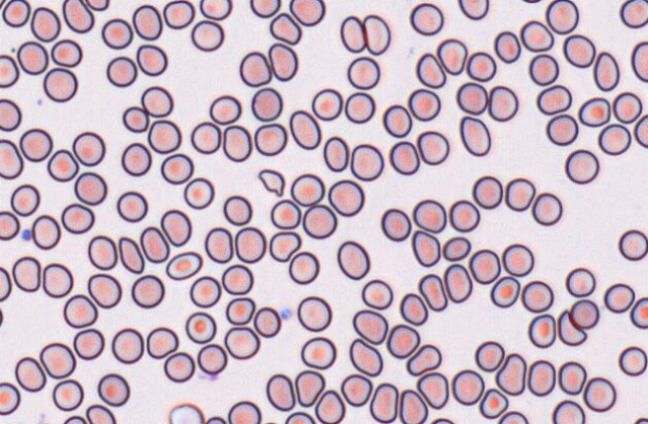PLT: (279, 306, 293, 320), (21, 229, 33, 242)
RBC: (327, 179, 364, 216), (39, 342, 76, 378), (349, 337, 383, 376), (336, 240, 370, 279), (459, 115, 491, 156), (495, 353, 526, 395), (289, 109, 321, 149), (352, 309, 388, 344), (297, 295, 331, 332), (416, 371, 449, 409), (350, 143, 383, 181), (302, 204, 337, 239), (564, 149, 599, 184), (450, 369, 484, 405), (267, 42, 298, 81), (43, 67, 77, 102), (386, 323, 420, 358), (63, 293, 97, 328), (87, 273, 121, 308), (369, 382, 398, 423), (405, 343, 441, 376), (583, 376, 616, 412), (300, 336, 336, 369), (224, 326, 260, 359), (234, 226, 266, 263), (294, 369, 325, 407), (147, 119, 181, 153), (545, 0, 579, 34), (412, 199, 446, 233), (519, 19, 554, 52), (72, 131, 105, 166), (111, 328, 144, 363), (416, 130, 449, 165), (14, 356, 46, 392), (468, 248, 500, 284), (362, 14, 390, 55), (436, 38, 467, 75), (160, 209, 191, 246), (265, 373, 295, 411), (222, 124, 252, 162), (443, 263, 472, 302), (290, 173, 324, 206), (74, 171, 107, 205), (409, 2, 443, 35), (131, 274, 164, 308), (455, 81, 488, 115), (239, 51, 271, 86), (415, 52, 446, 88), (487, 85, 518, 121), (411, 229, 440, 267), (418, 273, 447, 311), (19, 128, 52, 161), (347, 56, 380, 89), (501, 243, 534, 276), (407, 88, 440, 121), (254, 122, 287, 155), (562, 34, 595, 67), (16, 40, 48, 74), (190, 19, 224, 51), (597, 123, 631, 155), (42, 262, 73, 297), (536, 84, 571, 115), (388, 140, 419, 175), (30, 6, 60, 42), (132, 4, 162, 40), (165, 251, 202, 280), (140, 226, 169, 263), (62, 0, 94, 33), (269, 12, 301, 45), (97, 373, 129, 406), (61, 202, 94, 234), (340, 373, 372, 406), (140, 85, 173, 117), (520, 280, 553, 312), (545, 113, 578, 145), (448, 199, 480, 232), (314, 389, 345, 423), (504, 177, 535, 211), (251, 87, 282, 121), (87, 235, 117, 270), (204, 227, 233, 263), (593, 51, 619, 91), (527, 359, 555, 396), (146, 326, 178, 358), (189, 275, 221, 307), (221, 263, 253, 295), (288, 251, 319, 284), (47, 149, 78, 182), (268, 231, 301, 262), (160, 153, 193, 184), (489, 275, 520, 308), (380, 208, 411, 241), (190, 121, 221, 154), (531, 192, 562, 225), (121, 142, 151, 176), (472, 175, 502, 209), (398, 388, 427, 423), (527, 313, 556, 348), (31, 214, 60, 249), (12, 256, 40, 292), (52, 379, 83, 411), (185, 311, 216, 343), (163, 351, 195, 382), (183, 177, 214, 209), (73, 328, 104, 360), (136, 44, 167, 76), (101, 18, 133, 49), (106, 55, 137, 87), (116, 190, 147, 222), (528, 53, 559, 85), (578, 96, 610, 127), (603, 282, 635, 313), (311, 88, 342, 120), (344, 91, 375, 123), (10, 183, 40, 216), (382, 104, 412, 137), (557, 361, 586, 395), (118, 236, 144, 273), (323, 135, 349, 172), (478, 387, 508, 419), (361, 279, 393, 309), (197, 343, 227, 375), (612, 91, 642, 123), (209, 94, 241, 124), (399, 292, 428, 325), (162, 0, 195, 29), (0, 138, 23, 179), (289, 0, 325, 26), (270, 199, 301, 229), (568, 299, 599, 329), (474, 340, 504, 371), (465, 51, 496, 81), (50, 38, 82, 67), (340, 15, 365, 52), (493, 30, 521, 63), (565, 267, 595, 297), (618, 345, 647, 376), (618, 229, 647, 260), (223, 194, 252, 225), (225, 296, 255, 325), (253, 306, 281, 337), (551, 399, 585, 423), (619, 0, 647, 28), (227, 400, 261, 423), (2, 0, 30, 27), (168, 402, 204, 423), (122, 105, 149, 132), (442, 236, 470, 261), (630, 41, 647, 82), (0, 98, 21, 131), (0, 381, 20, 415), (199, 0, 232, 20), (457, 0, 489, 20), (0, 54, 19, 87), (85, 404, 116, 423), (0, 210, 19, 240), (249, 0, 280, 18), (630, 296, 647, 328), (633, 113, 647, 148), (497, 410, 528, 423), (0, 266, 11, 301), (284, 411, 315, 423), (84, 0, 109, 11), (62, 415, 87, 423), (205, 415, 226, 423), (429, 417, 454, 423), (633, 417, 647, 423), (520, 0, 542, 3), (0, 306, 3, 327), (261, 421, 280, 424), (333, 0, 359, 2)
Schistocyte: (559, 310, 587, 347), (258, 169, 285, 198)
